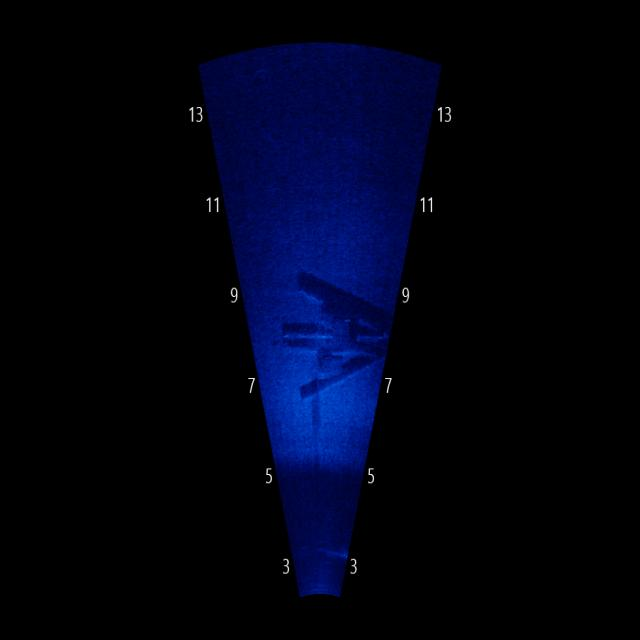triangle: (278, 257, 395, 419)
